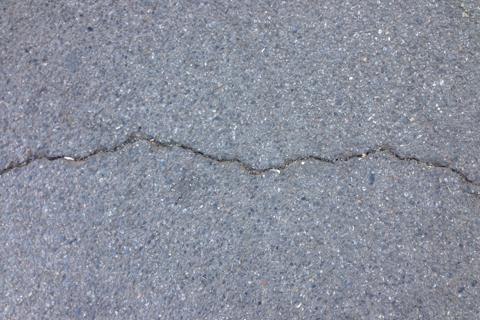crack: (0, 128, 480, 189)
